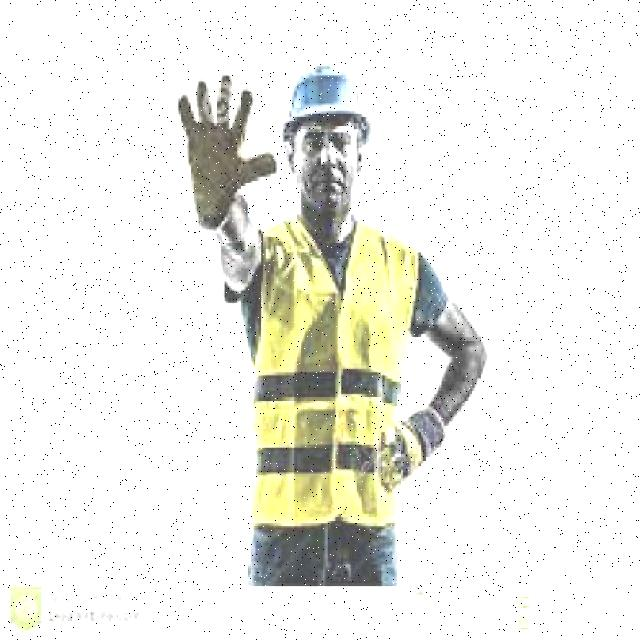Gloves: (174, 74, 271, 218), (388, 407, 448, 487)
Helmet: (282, 58, 368, 137)
Mask: (256, 207, 390, 522)
